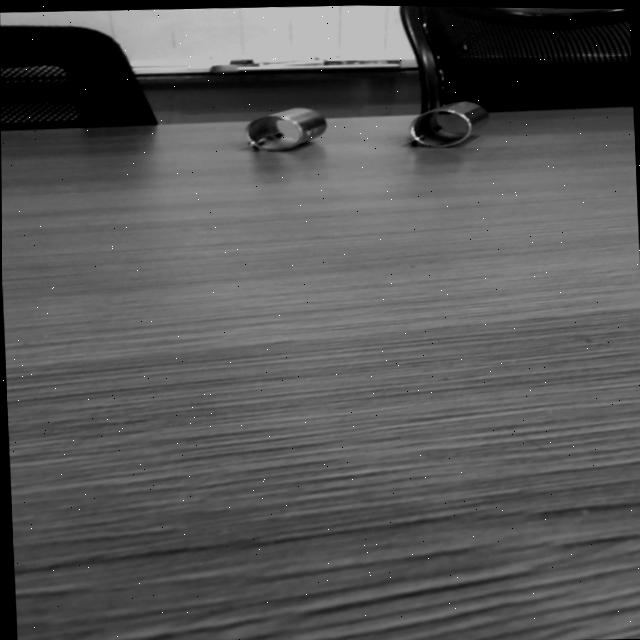Co_Lon: (396, 85, 491, 164)
Co_Nho: (242, 100, 329, 158)
